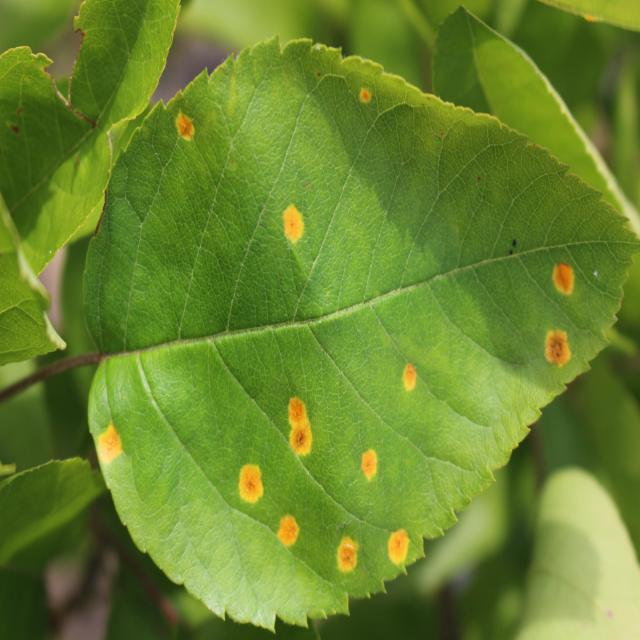Rust: (82, 404, 140, 476), (318, 522, 364, 598), (283, 387, 320, 473), (272, 186, 309, 267), (230, 447, 269, 523), (524, 320, 583, 370), (167, 99, 206, 168), (344, 443, 390, 500), (531, 258, 585, 304), (385, 520, 415, 590), (351, 69, 382, 129), (389, 358, 428, 400), (275, 506, 304, 562)
